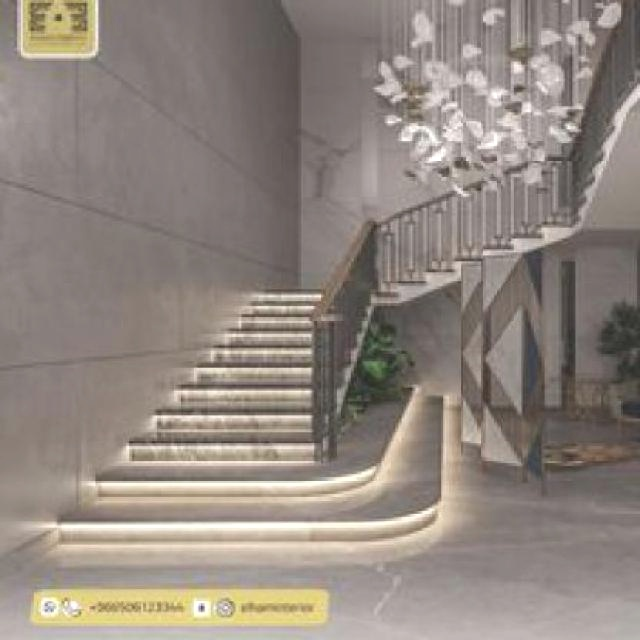stair: (108, 245, 412, 477)
